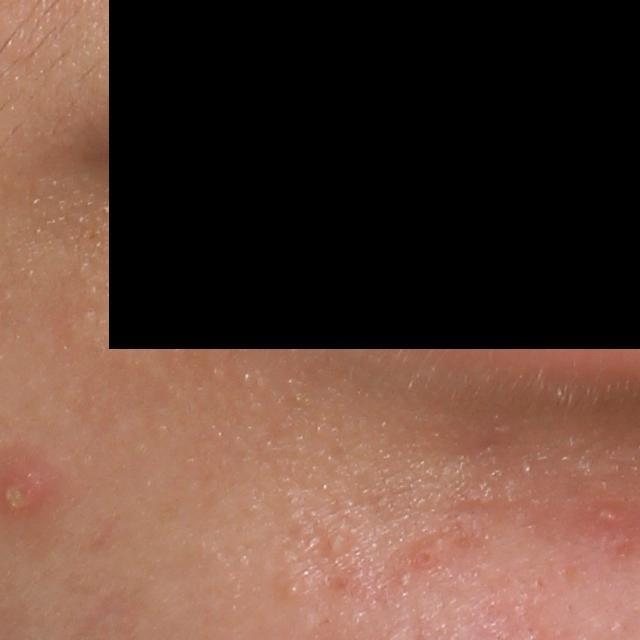comedo: (282, 579, 304, 602), (326, 531, 343, 554), (400, 571, 411, 588)
pustule: (594, 501, 626, 532)
